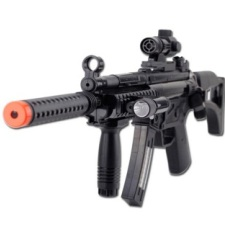Arma Falsa: (2, 26, 225, 226)
